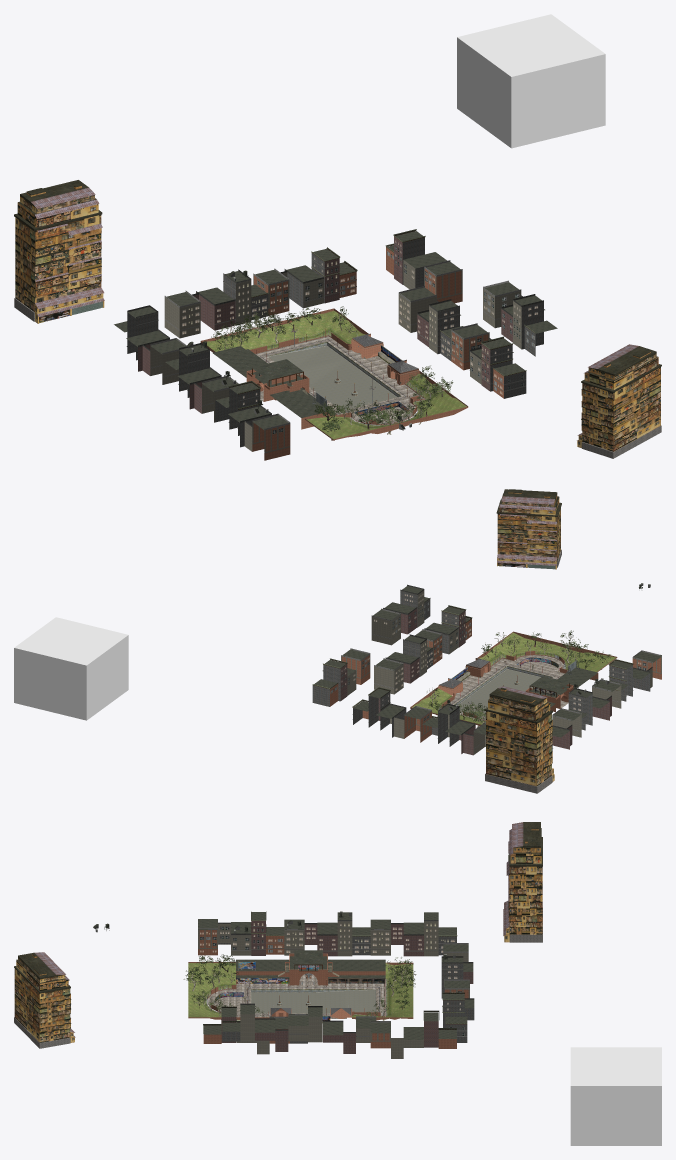
File: world.glb
3 views of the same model, one above another, from view 1: azimuth 30°, elevation 25°; view 2: azimuth 150°, elevation 25°; view 3: azimuth 270°, elevation 25° (orthographic). The views are drawn at different scales.
Parts seen in each view (by area): view 1: Sect_001, managed-static-75, managed-static-76, managed-static-126, managed-static-65, managed-static-63, managed-static-61, managed-static-127, managed-static-118, managed-static-62, managed-static-69, managed-static-68 (+5 smaller); view 2: Sect_001, managed-static-75, managed-static-76, managed-static-126, managed-static-128, managed-static-63, managed-static-68, managed-static-69, managed-static-66, managed-static-61, managed-static-65, managed-static-62 (+5 smaller); view 3: Sect_001, managed-static-76, managed-static-75, managed-static-127, managed-static-126, managed-static-62, managed-static-64, managed-static-67, managed-static-68, managed-static-69, managed-static-128, managed-static-66 (+5 smaller).
Boxes of the visible parts, x1,y1,x2,y2 form: Sect_001: (457,14,605,148); managed-static-75: (14,180,104,323); managed-static-76: (577,344,661,458); managed-static-126: (257,337,415,424); managed-static-65: (164,269,268,338); managed-static-63: (253,247,357,315); managed-static-61: (451,323,526,398); managed-static-127: (213,346,339,429); managed-static-118: (200,308,368,353); managed-static-62: (215,381,290,460); managed-static-69: (385,229,462,303); managed-static-68: (483,280,557,356); Sect_001: (14,617,128,720); managed-static-75: (485,686,554,793); managed-static-76: (496,489,561,569); managed-static-126: (451,655,563,720); managed-static-128: (477,631,617,673); managed-static-63: (352,687,431,742); managed-static-68: (371,584,430,645); managed-static-69: (312,648,370,706); managed-static-66: (374,634,433,694); managed-static-61: (415,605,472,664); managed-static-65: (422,704,485,755); managed-static-62: (608,650,661,701); Sect_001: (570,1047,661,1145); managed-static-76: (14,952,75,1048); managed-static-75: (503,822,542,942); managed-static-127: (236,950,385,986); managed-static-126: (207,987,385,1014); managed-static-62: (198,911,284,955); managed-static-64: (284,912,370,956); managed-static-67: (370,912,457,956); managed-static-68: (222,1003,308,1051); managed-static-69: (370,1010,456,1058); managed-static-128: (188,962,269,1020); managed-static-66: (290,1006,376,1053).
Size of the model in its own units: 15680 by 3523 by 17252.
Materials: 128 (127 with a texture image).
